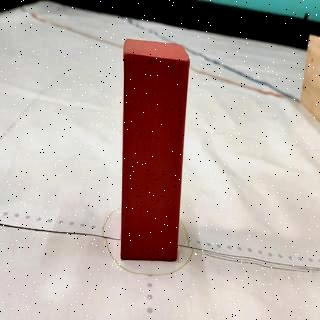redbox: (122, 38, 189, 262)
